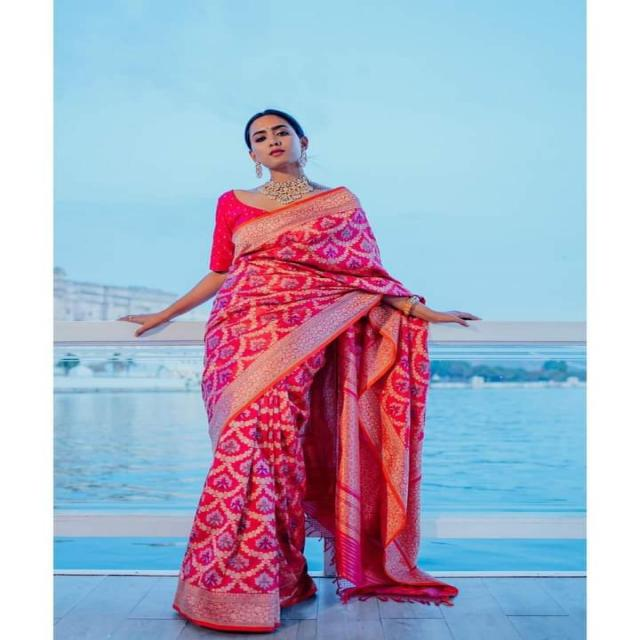female-dress: (162, 162, 459, 636)
